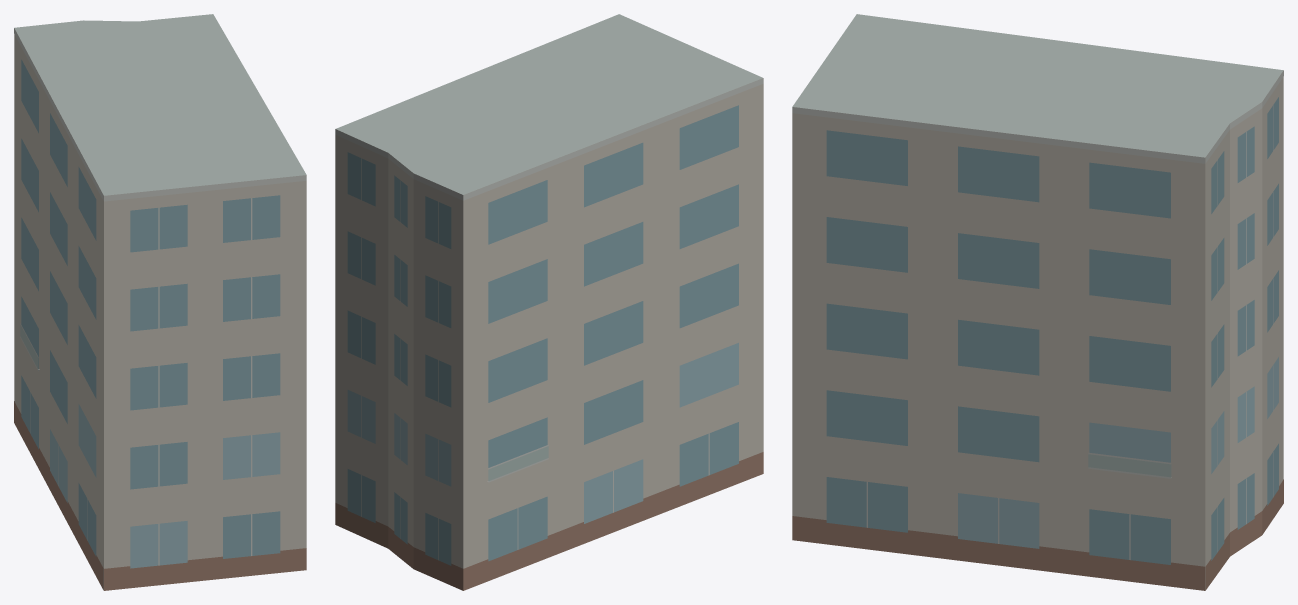
Rendered from survey-upis-32632059.glb.
The picture shows the model from 3 angles, left to right: view 1: azimuth 30°, elevation 25°; view 2: azimuth 150°, elevation 25°; view 3: azimuth 270°, elevation 25°; orthographic projection. The views are drawn at different scales.
Parts seen in each view (by area): view 1: survey-upis-32632059.tmp; view 2: survey-upis-32632059.tmp; view 3: survey-upis-32632059.tmp.
Part boxes in pixels (left/top/right/bottom): survey-upis-32632059.tmp: left=14, top=14, right=306, bottom=590; survey-upis-32632059.tmp: left=335, top=14, right=763, bottom=590; survey-upis-32632059.tmp: left=792, top=14, right=1283, bottom=590.
Bounding box in the file's own units: 12.02 × 16.9 × 17.38.
